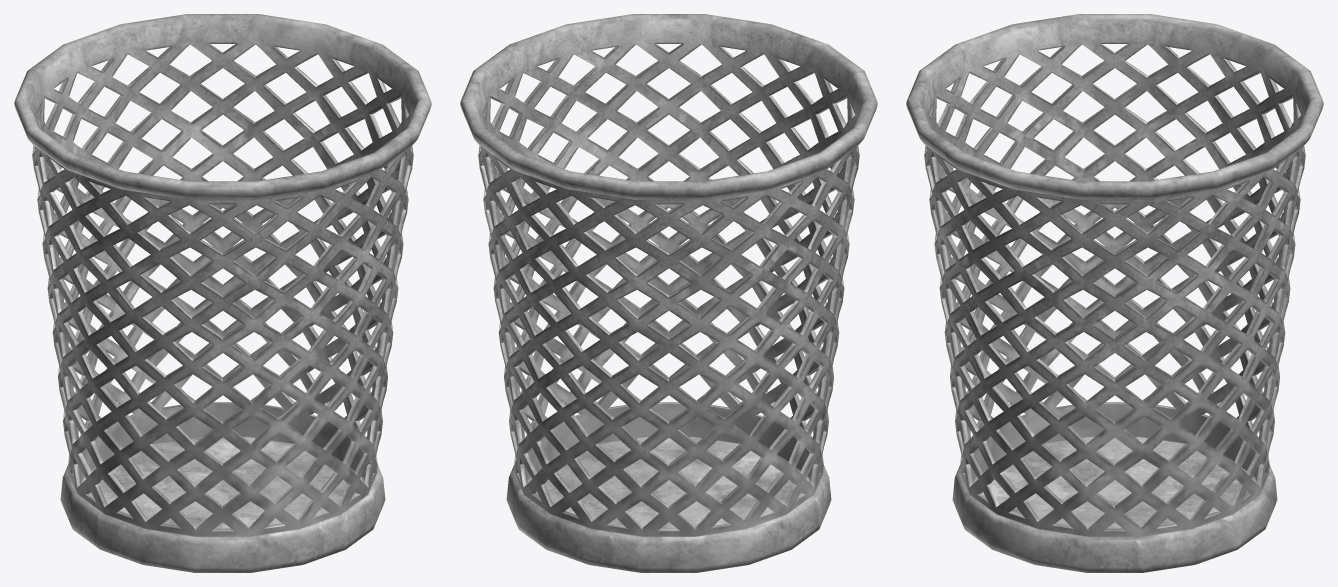
The model's file is steel.glb.
3 renders of one model, left to right at view 1: azimuth 30°, elevation 25°; view 2: azimuth 150°, elevation 25°; view 3: azimuth 270°, elevation 25°, orthographic.
Parts seen in each view (by area): view 1: SM_bin_T_bin_0; view 2: SM_bin_T_bin_0; view 3: SM_bin_T_bin_0.
Boxes of the visible parts, x1,y1,x2,y2 form: SM_bin_T_bin_0: (14,14,431,572); SM_bin_T_bin_0: (460,14,877,572); SM_bin_T_bin_0: (906,14,1323,572).
Size of the model in its own units: 0.3417 by 0.3761 by 0.3469.
Materials: 1 (1 with a texture image).
